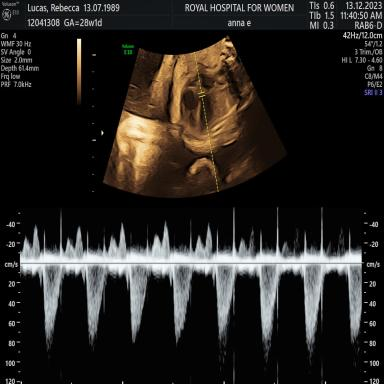Ultrasound-Waves: (29, 206, 360, 384)
